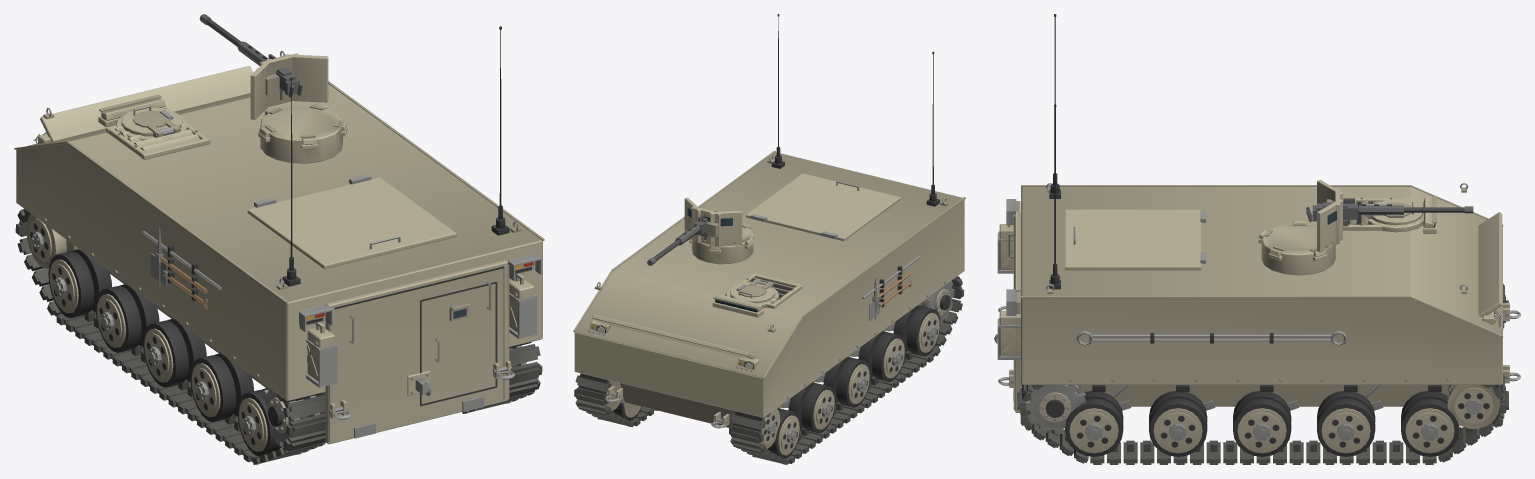
File: usa_apc_113.glb
3 renders of one model, left to right at view 1: azimuth 30°, elevation 25°; view 2: azimuth 150°, elevation 25°; view 3: azimuth 270°, elevation 25°, orthographic. The views are drawn at different scales.
Parts seen in each view (by area): view 1: body, door, turret, barrel; view 2: body, turret, barrel; view 3: body, turret, barrel, door.
Part boxes in pixels (left/top/right/bottom): body: left=14, top=26, right=544, bottom=464; door: left=325, top=260, right=509, bottom=444; turret: left=250, top=53, right=328, bottom=120; barrel: left=199, top=14, right=302, bottom=99; body: left=573, top=14, right=965, bottom=464; turret: left=684, top=197, right=742, bottom=246; barrel: left=647, top=211, right=719, bottom=265; body: left=994, top=14, right=1520, bottom=464; turret: left=1317, top=179, right=1342, bottom=252; barrel: left=1306, top=198, right=1473, bottom=226; door: left=1008, top=211, right=1020, bottom=412.
Bounding box in the file's own units: 2.82 × 3.97 × 5.41.
